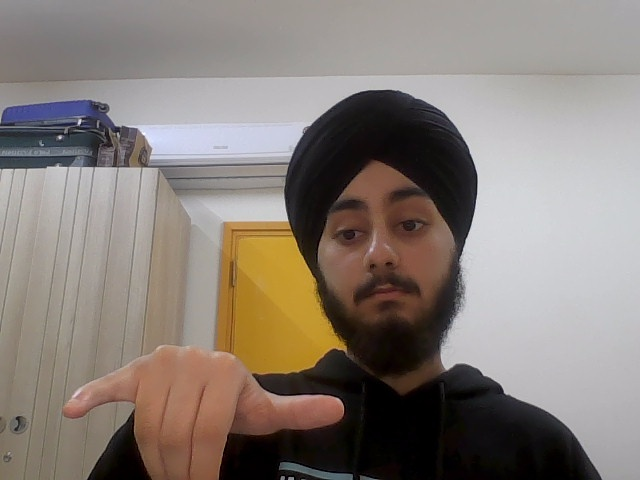Same: (62, 339, 347, 480)
